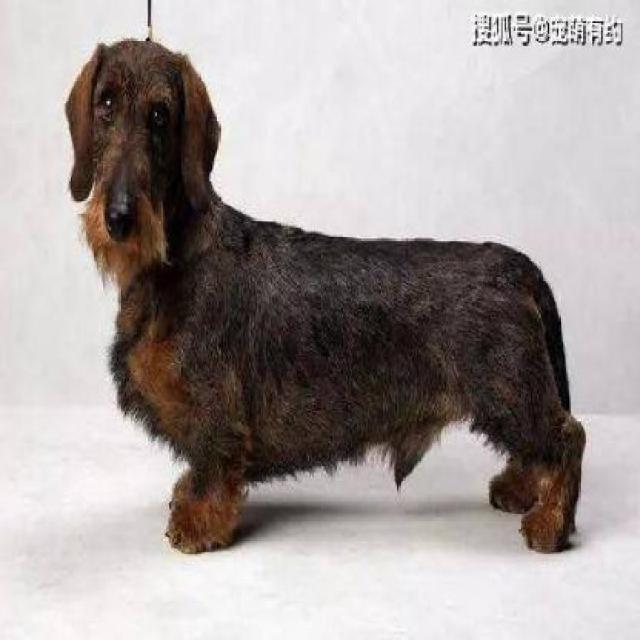Dog: (62, 38, 588, 571)
